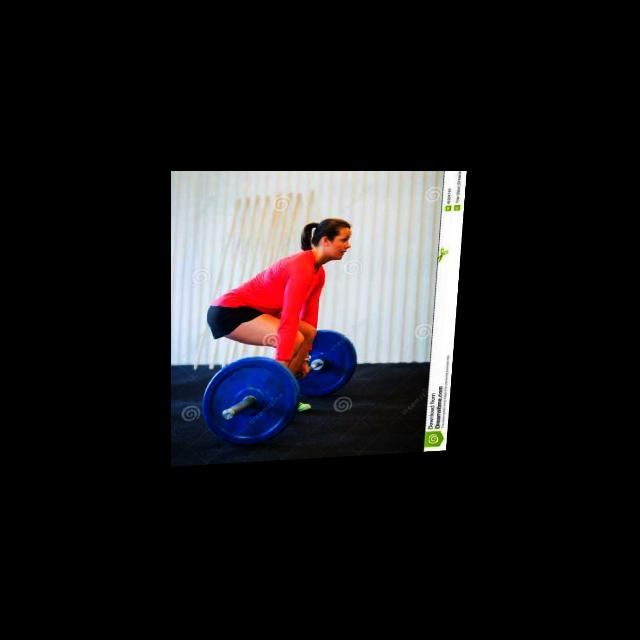barbell: (203, 356, 309, 454)
